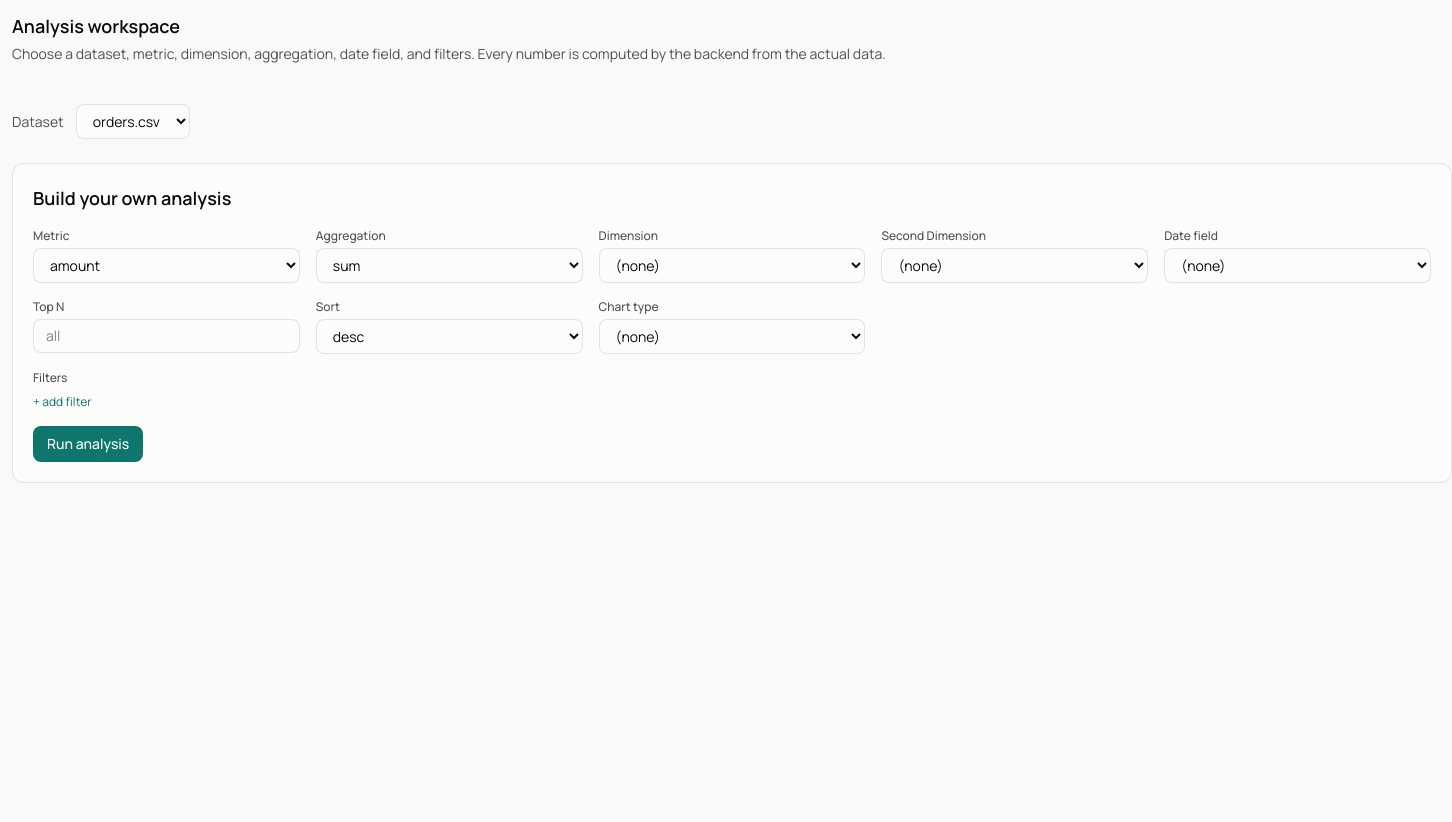
Test: AnalysisWorkspace › shows insufficient-data messaging when the backend reports it
The image size is (1452, 822).
Click the button "Run analysis" at (88, 444), box top-left (33, 426), bottom-right (143, 462)
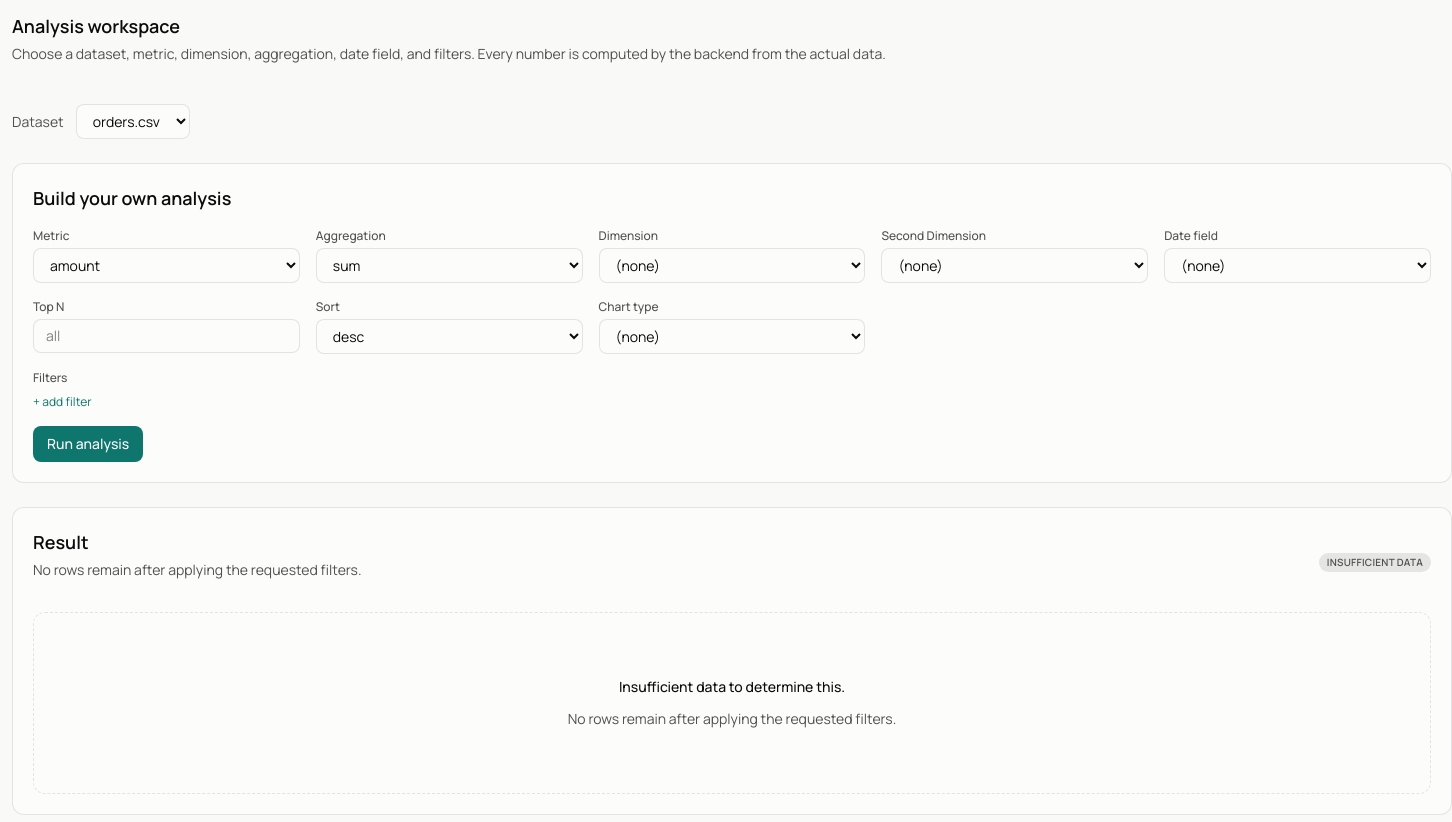
Expected: the text "Insufficient data to determine this." is shown, top-left (619, 677), bottom-right (845, 697)
